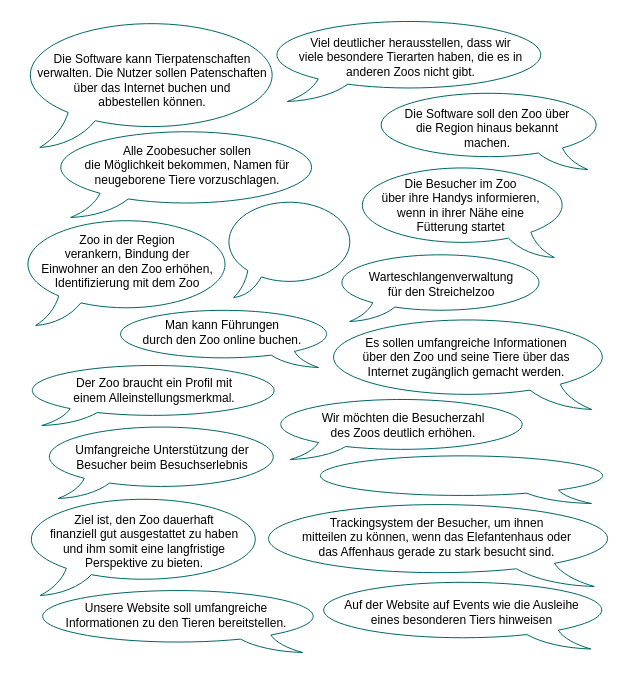
The diagram is 643 pixels wide and 675 high, and some of its shapes have lost their labels. The shapes that lost their labels are listed below. From the top down, each one's centre as x and y in pixels, then its label:
pixel 290 247: Online Eintrittskarten für den Zoo verkaufen
pixel 460 478: Den Bildungsauftrag des Zoos erfüllen
